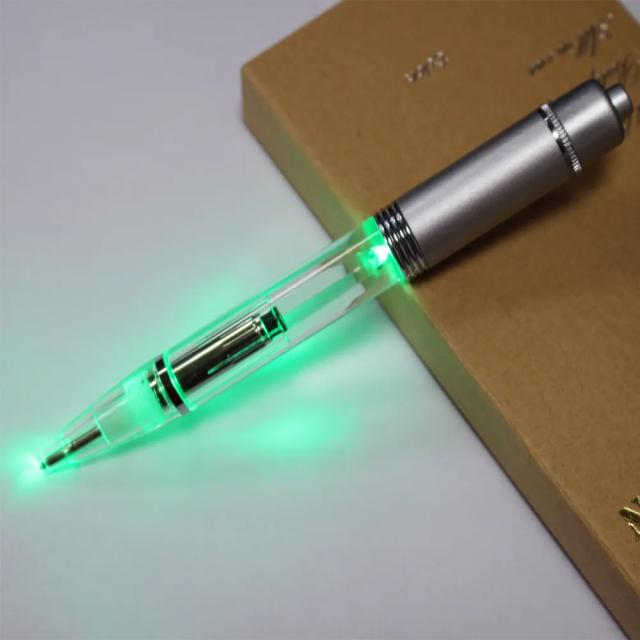pen: (32, 73, 634, 479)
